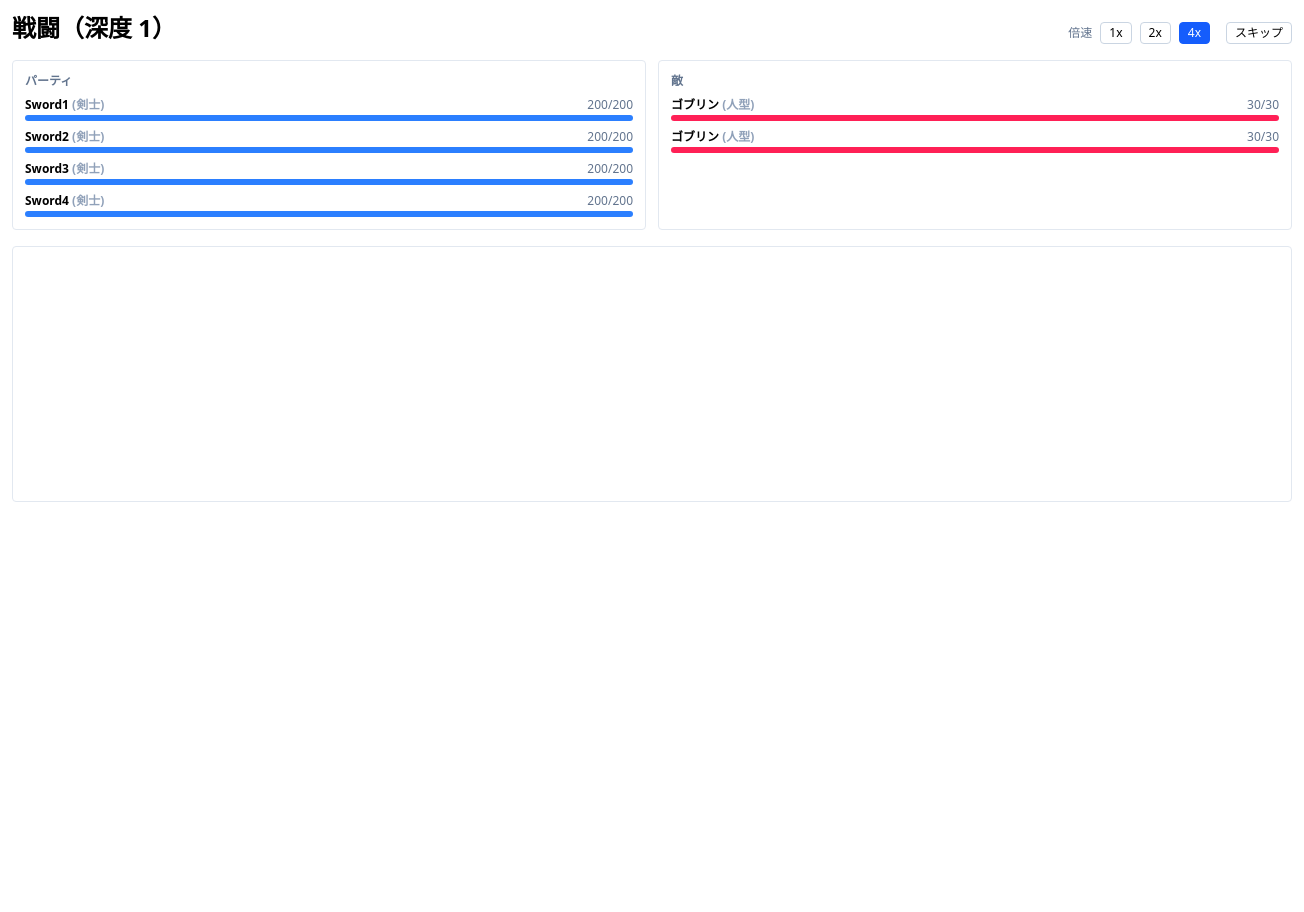
Test: BattleScreen のスキップ › 「スキップ」を押すと結果ダイアログが表示される
Click the button "スキップ" at (1259, 33), box 1226,22 -> 1292,44
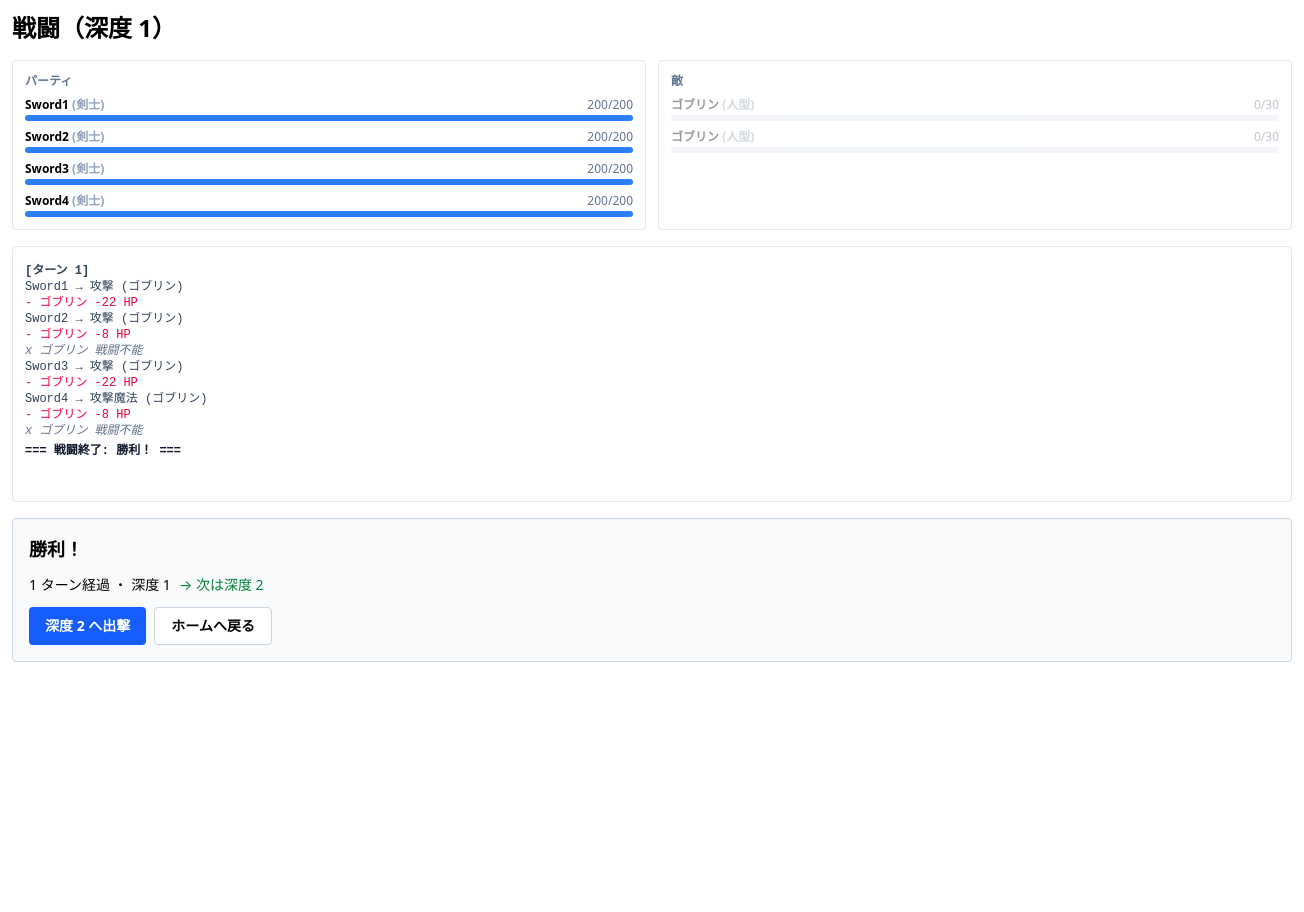
expect the heading "勝利！" is shown: met, box 29,537 -> 83,561
expect the button "ホームへ戻る" is shown: met, box 154,607 -> 272,645
